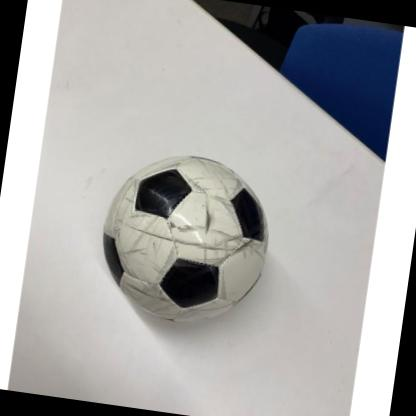ball: (92, 144, 276, 333)
